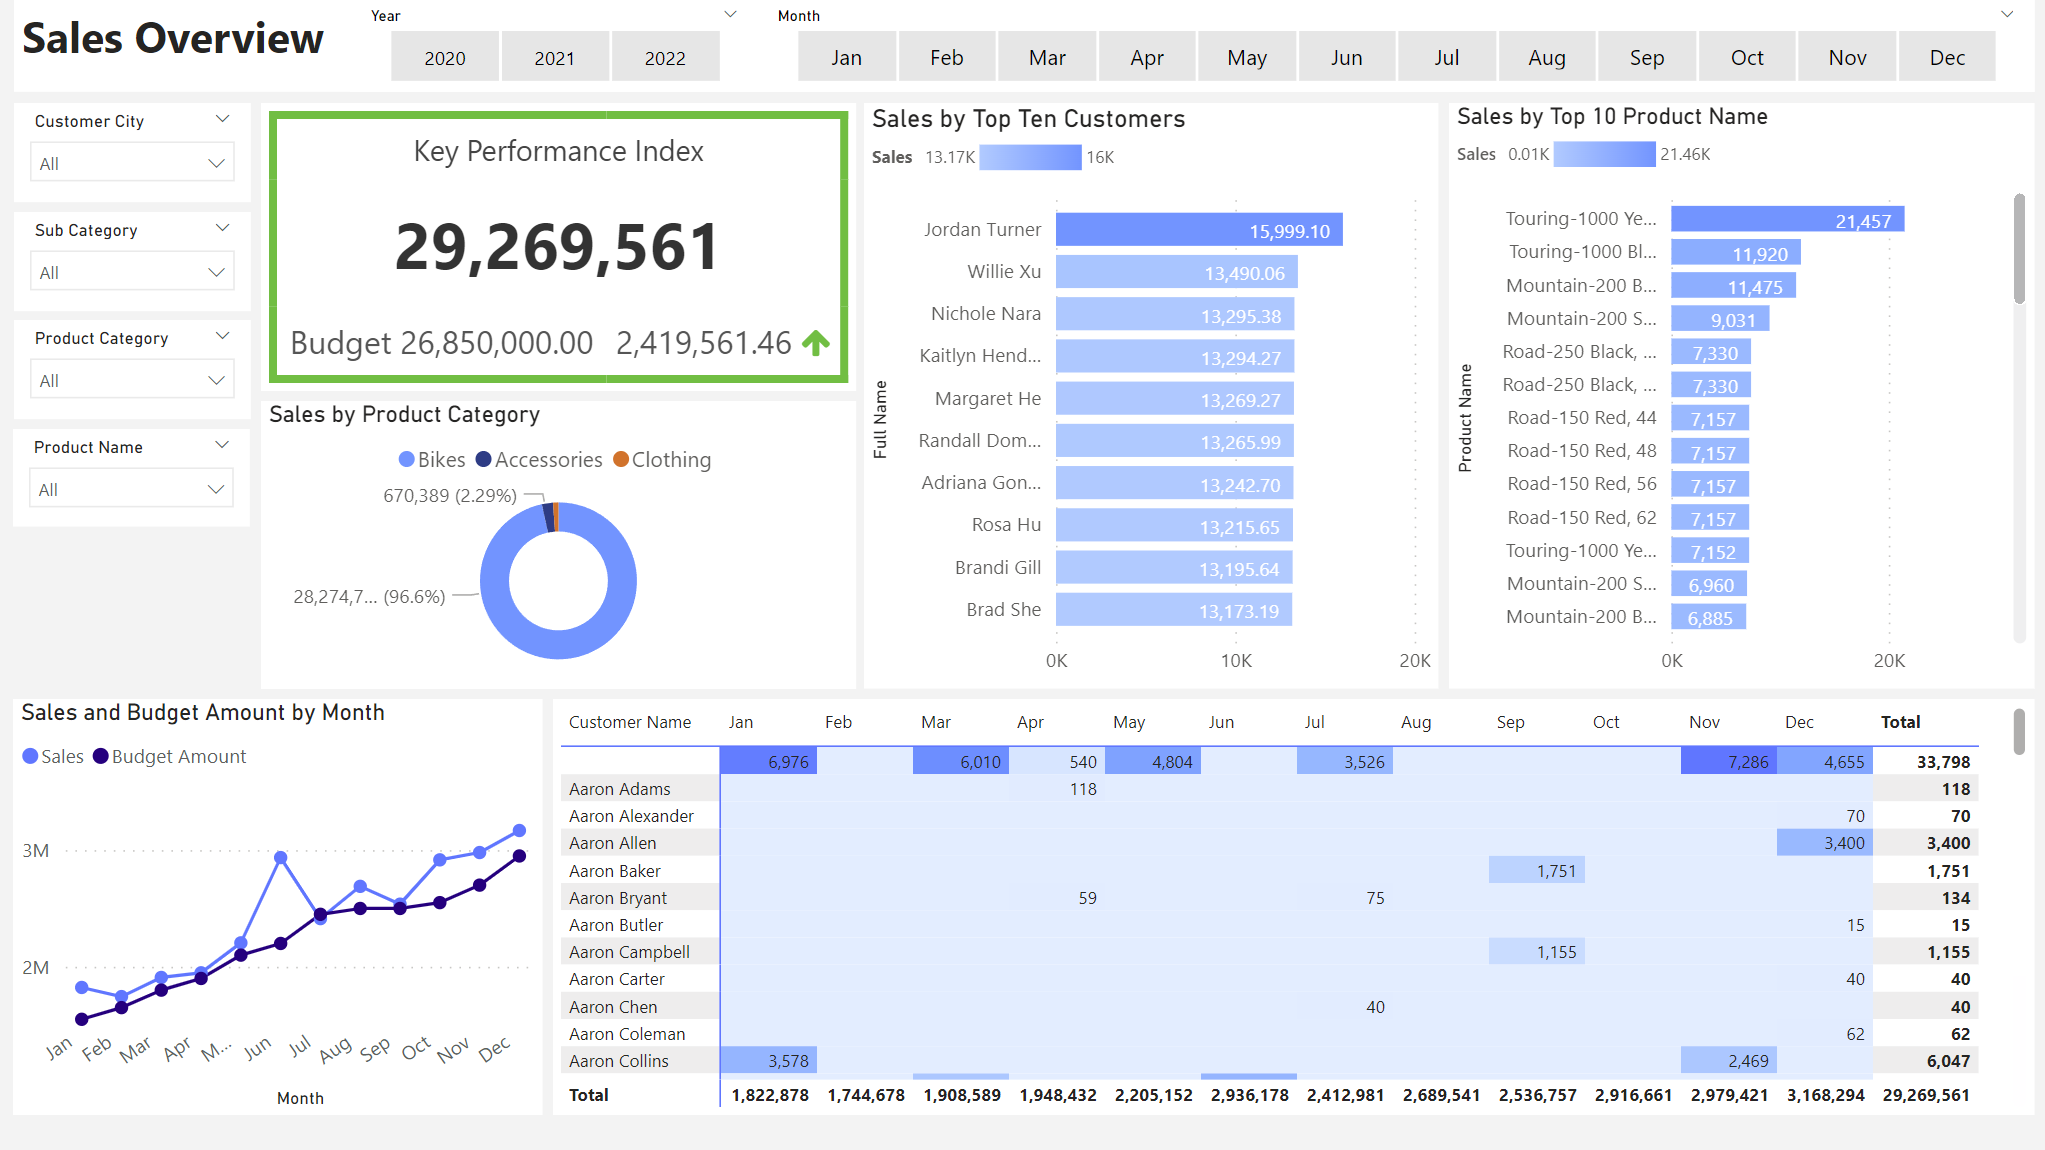

What the dashboard file says about the page in this screenshot:
{"tool":"powerbi","page":{"name":"Page 1","canvas":[1280,720],"ordinal":0},"visuals":[{"type":"textbox","box":[9.8,0,1263,58.2],"z":0},{"type":"slicer","fields":{"Values":["DIM_CalendarMeh.Year"]},"box":[219.9,0,254.6,58.2],"z":1000},{"type":"slicer","fields":{"Values":["DIM_CalendarMeh.MonthShort"]},"box":[474.4,0,798.4,58.2],"z":2000},{"type":"slicer","fields":{"Values":["DIM_CustomersMEH.Customer City"]},"box":[9.8,64.8,147.9,61.5],"z":3000},{"type":"slicer","fields":{"Values":["DIM_ProductsMEH.Sub Category"]},"box":[9.8,132.8,147.9,61.5],"z":4000},{"type":"slicer","fields":{"Values":["DIM_ProductsMEH.Product Category"]},"box":[9.8,200.9,147.9,61.5],"z":5000},{"type":"slicer","fields":{"Values":["DIM_ProductsMEH.Product Name"]},"box":[9.6,268.8,148.2,61.5],"z":6000},{"type":"BBED0A4D4D8D44CE93CF2DAFADEE466C","fields":{"actual":["FACT_InternetSalesMEH.Sales"],"target1":["FACT_Budget.Budget Amount"],"target2":["Key Measures.Sales - Budget"]},"box":[164.5,65.1,371.8,179.6],"z":7000},{"type":"donutChart","fields":{"Category":["DIM_ProductsMEH.Product Category"],"Y":["Key Measures.Sales"]},"box":[164.5,251.3,371.8,180.2],"z":8000},{"type":"lineChart","title":"Sales and Budget Amount by Month","fields":{"Y":["Key Measures.Sales","Key Measures.Budget Amount"],"Category":["DIM_CalendarMeh.MonthShort"]},"box":[9.6,437.5,331.5,260.3],"z":9000},{"type":"barChart","title":"Sales by Top Ten Customers","fields":{"Y":["Key Measures.Sales"],"Category":["DIM_CustomersMEH.Full Name"]},"box":[541.2,65.1,359.2,366.4],"z":10000},{"type":"barChart","title":"Sales by Top 10 Product Name","fields":{"Y":["Key Measures.Sales"],"Category":["DIM_ProductsMEH.Product Name"]},"box":[907,65.1,365.8,366.4],"z":11000},{"type":"pivotTable","fields":{"Rows":["DIM_CustomersMEH.Full Name"],"Values":["Key Measures.Sales"],"Columns":["DIM_CalendarMeh.MonthShort"]},"box":[347.1,437.5,925.6,260.3],"z":12000}]}

Visuals, with their boxes in screenshot pixels (x1, y1, x2, y2), scaled from the page's 1280x720 canvas onto the 2045x1150 screenshot:
textbox: bbox(16, 0, 2033, 93)
slicer - DIM_CalendarMeh.Year: bbox(351, 0, 758, 93)
slicer - DIM_CalendarMeh.MonthShort: bbox(758, 0, 2033, 93)
slicer - DIM_CustomersMEH.Customer City: bbox(16, 104, 252, 202)
slicer - DIM_ProductsMEH.Sub Category: bbox(16, 212, 252, 310)
slicer - DIM_ProductsMEH.Product Category: bbox(16, 321, 252, 419)
slicer - DIM_ProductsMEH.Product Name: bbox(15, 429, 252, 528)
BBED0A4D4D8D44CE93CF2DAFADEE466C - FACT_InternetSalesMEH.Sales x FACT_Budget.Budget Amount: bbox(263, 104, 857, 391)
donutChart - DIM_ProductsMEH.Product Category x Key Measures.Sales: bbox(263, 401, 857, 689)
"Sales and Budget Amount by Month" lineChart: bbox(15, 699, 545, 1115)
"Sales by Top Ten Customers" barChart: bbox(865, 104, 1439, 689)
"Sales by Top 10 Product Name" barChart: bbox(1449, 104, 2033, 689)
pivotTable - DIM_CustomersMEH.Full Name x Key Measures.Sales: bbox(555, 699, 2033, 1115)
